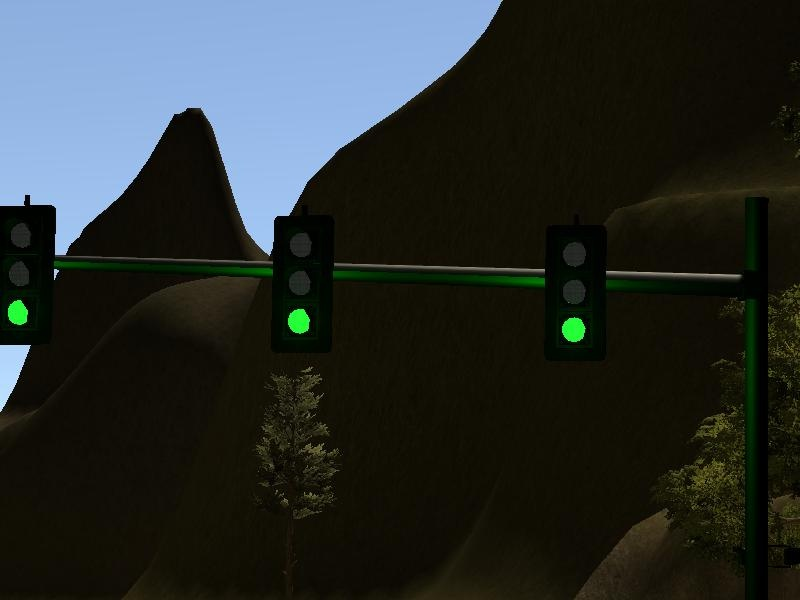Green: (273, 217, 333, 354), (545, 225, 605, 360), (1, 204, 57, 344)
